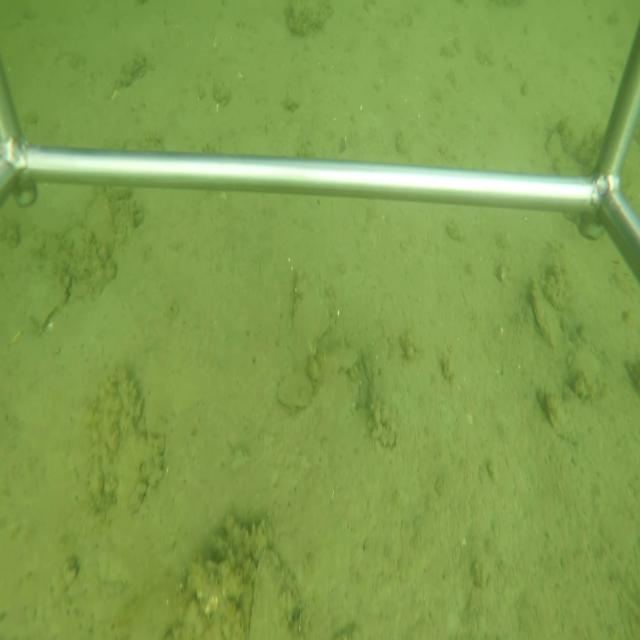Oyster-Closed: (528, 274, 562, 351)
Oyster-Indeterminate: (245, 549, 304, 638)
